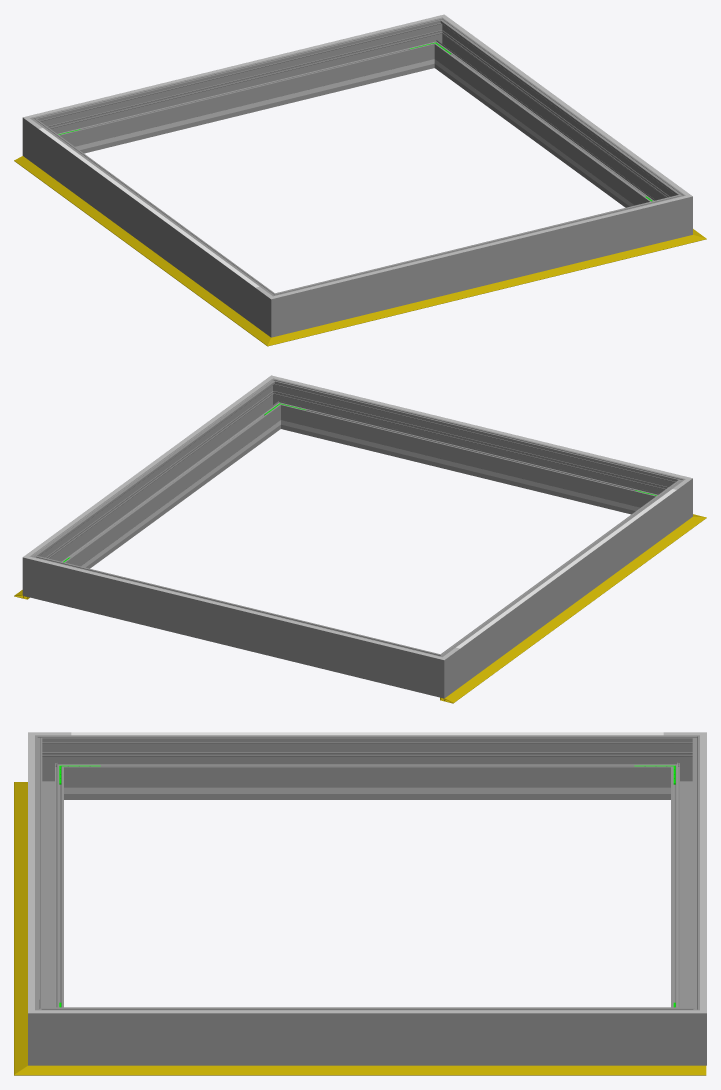
3 views of the same model, one above another, from view 1: azimuth 30°, elevation 25°; view 2: azimuth 150°, elevation 25°; view 3: azimuth 270°, elevation 25° (orthographic). The views are drawn at different scales.
Visible parts, largest first — view 1: 3DGeom-276, 3DGeom-298, 3DGeom-297, 3DGeom-268, 3DGeom-28, 3DGeom-38, 3DGeom-270, 3DGeom-244, 3DGeom-290, 3DGeom-316, 3DGeom-304, 3DGeom-313 (+4 smaller); view 2: 3DGeom-298, 3DGeom-276, 3DGeom-297, 3DGeom-268, 3DGeom-38, 3DGeom-278, 3DGeom-239, 3DGeom-284, 3DGeom-316, 3DGeom-304, 3DGeom-313, 3DGeom-303 (+3 smaller); view 3: 3DGeom-268, 3DGeom-297, 3DGeom-30, 3DGeom-276, 3DGeom-298, 3DGeom-232, 3DGeom-28, 3DGeom-284, 3DGeom-290, 3DGeom-303, 3DGeom-313, 3DGeom-270 (+4 smaller).
Boxes of the visible parts, x1,y1,x2,y2 form: 3DGeom-276: (52, 23, 429, 153); 3DGeom-298: (293, 199, 665, 330); 3DGeom-297: (437, 27, 672, 207); 3DGeom-268: (38, 127, 263, 325); 3DGeom-28: (290, 239, 679, 339); 3DGeom-38: (14, 156, 259, 334); 3DGeom-270: (255, 285, 298, 337); 3DGeom-244: (85, 65, 408, 148); 3DGeom-290: (660, 186, 692, 241); 3DGeom-316: (296, 201, 664, 292); 3DGeom-304: (50, 21, 418, 112); 3DGeom-313: (39, 128, 259, 287); 3DGeom-298: (285, 384, 662, 514); 3DGeom-276: (50, 560, 421, 691); 3DGeom-297: (43, 388, 278, 568); 3DGeom-268: (451, 487, 676, 686); 3DGeom-38: (440, 524, 690, 703); 3DGeom-278: (417, 646, 460, 698); 3DGeom-239: (307, 426, 630, 509); 3DGeom-284: (22, 547, 54, 602); 3DGeom-316: (296, 382, 664, 473); 3DGeom-304: (50, 562, 418, 653); 3DGeom-313: (456, 489, 676, 648); 3DGeom-303: (39, 387, 259, 546); 3DGeom-268: (71, 735, 663, 799); 3DGeom-297: (71, 1007, 663, 1065); 3DGeom-30: (57, 1065, 706, 1075); 3DGeom-276: (671, 750, 699, 1007); 3DGeom-298: (35, 750, 63, 1007); 3DGeom-232: (106, 787, 628, 793); 3DGeom-28: (14, 797, 27, 1056); 3DGeom-284: (663, 995, 706, 1065); 3DGeom-290: (28, 995, 71, 1065); 3DGeom-303: (71, 1010, 663, 1013); 3DGeom-313: (71, 732, 663, 735); 3DGeom-270: (35, 735, 71, 799).
Size of the model in its own units: 2.44 by 0.2195 by 2.44.
